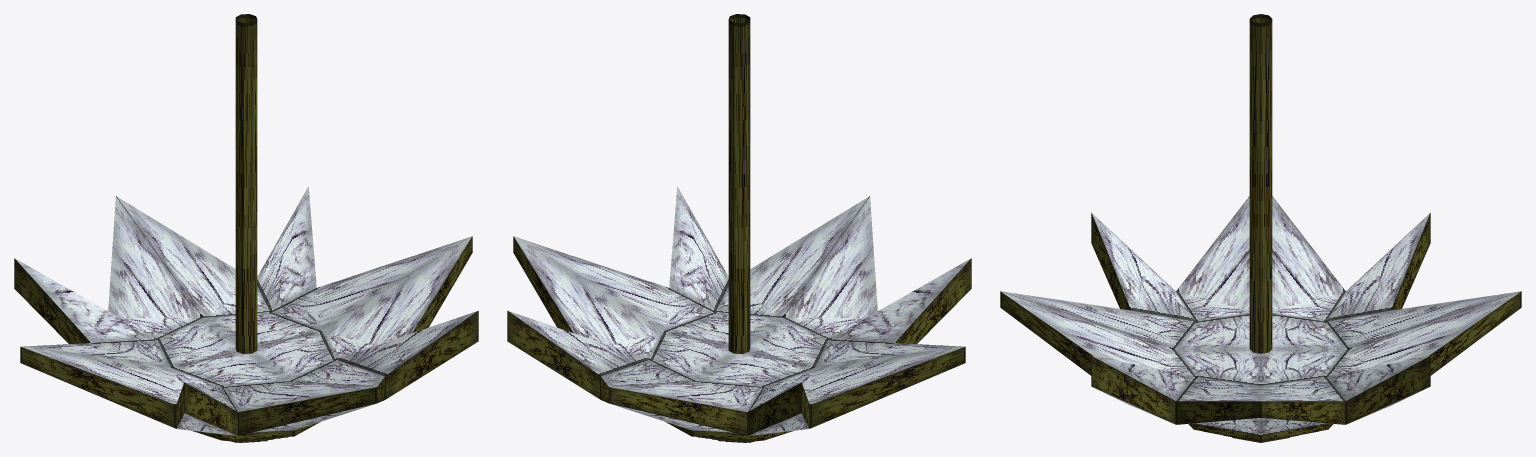
The model's file is Art Deco Fixture 3.fbx.
The picture shows the model from 3 angles, left to right: view 1: azimuth 30°, elevation 25°; view 2: azimuth 150°, elevation 25°; view 3: azimuth 270°, elevation 25°; orthographic projection.
Visible parts, largest first — view 1: Cube; view 2: Cube; view 3: Cube.
Boxes of the visible parts, x1,y1,x2,y2 form: Cube: (14, 14, 478, 442); Cube: (507, 14, 971, 442); Cube: (1000, 14, 1521, 442).
Bounding box in the file's own units: 0.7681 × 0.7681 × 0.6708.
